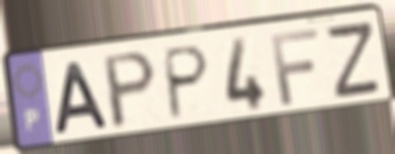4: (223, 33, 269, 114)
A: (53, 58, 113, 138)
F: (268, 26, 321, 109)
P: (101, 48, 159, 133), (162, 42, 212, 124)
Z: (326, 18, 384, 102)
